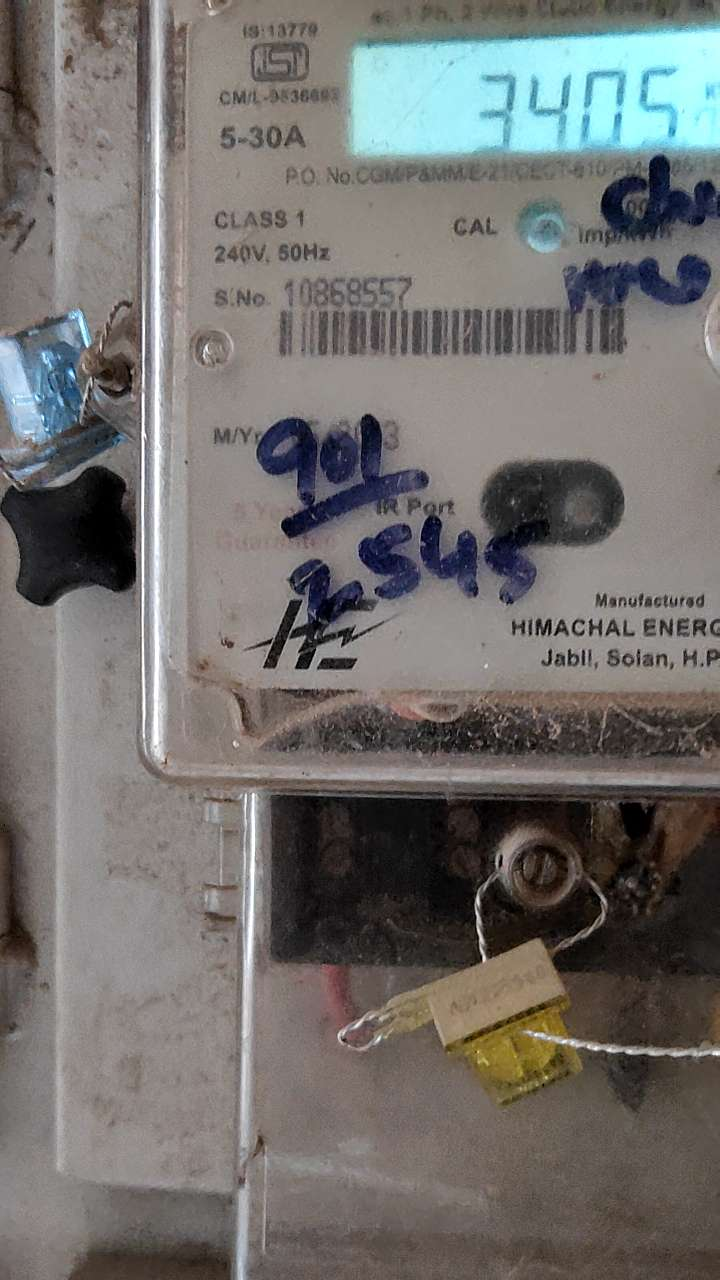meter_serial_number: (275, 269, 427, 311)
